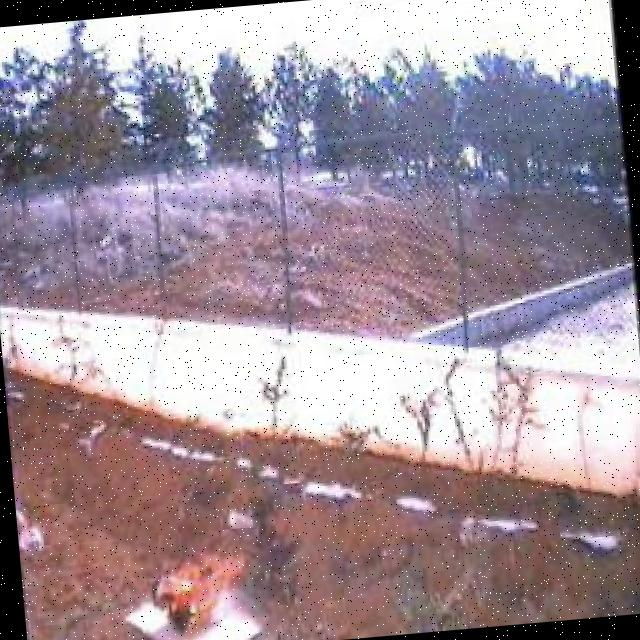fire: (135, 533, 259, 640)
